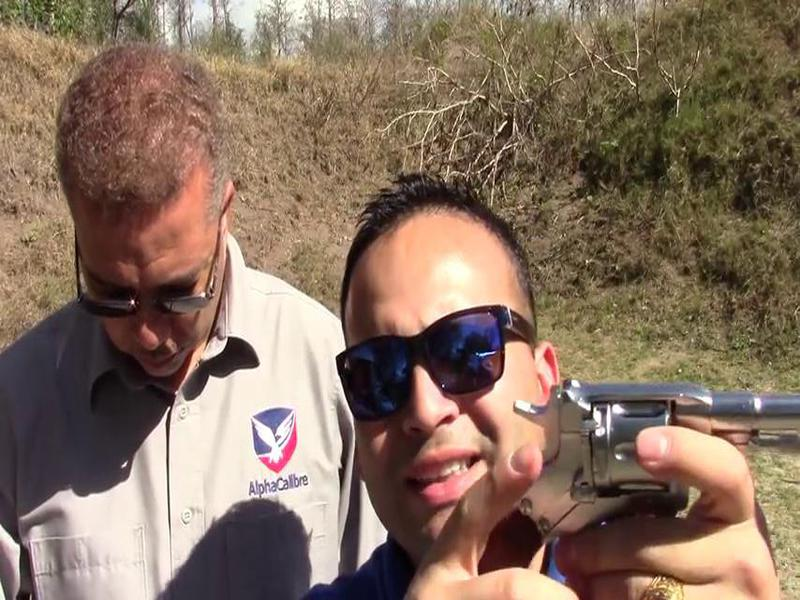Revolver: (436, 350, 800, 568)
